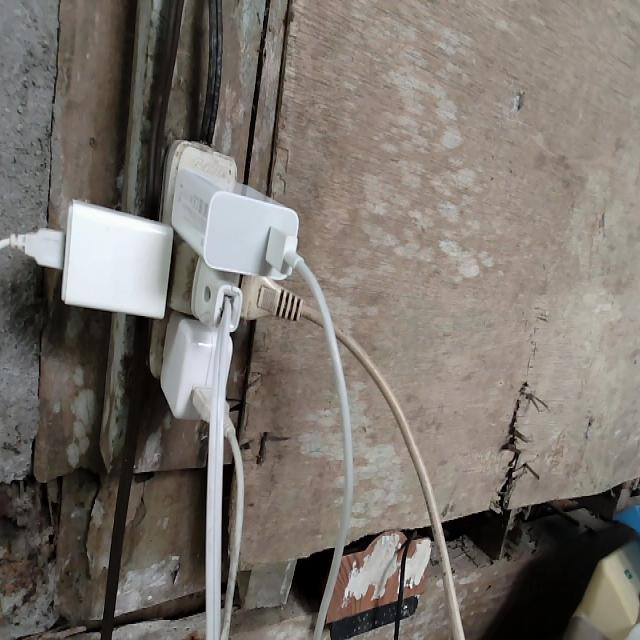-: (39, 139, 298, 421)
